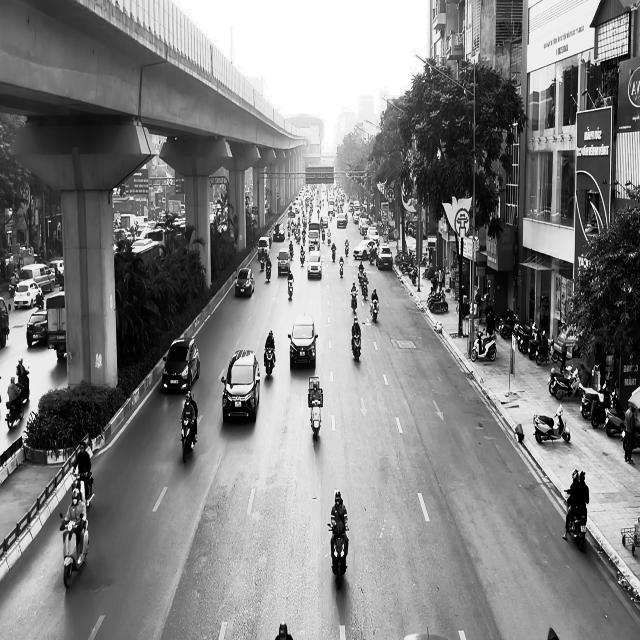car: (221, 349, 261, 423), (162, 337, 200, 392), (288, 314, 318, 369), (26, 310, 48, 347), (235, 267, 255, 297), (308, 251, 322, 279)
motorbike: (60, 511, 89, 588), (533, 404, 571, 444), (328, 522, 349, 590), (564, 490, 587, 550), (180, 414, 198, 463), (471, 329, 497, 362), (72, 471, 95, 508), (5, 392, 24, 429), (310, 398, 322, 440), (264, 347, 276, 377), (352, 332, 362, 362), (370, 299, 379, 322), (288, 278, 294, 300)
